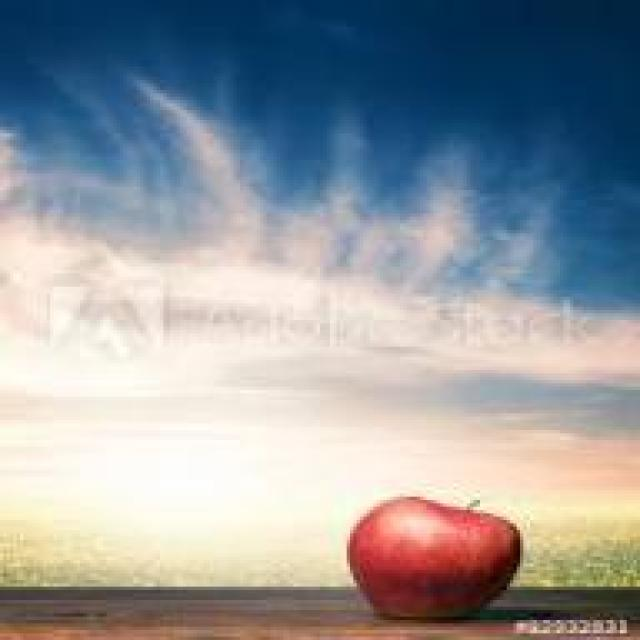apple: (340, 490, 523, 617)
